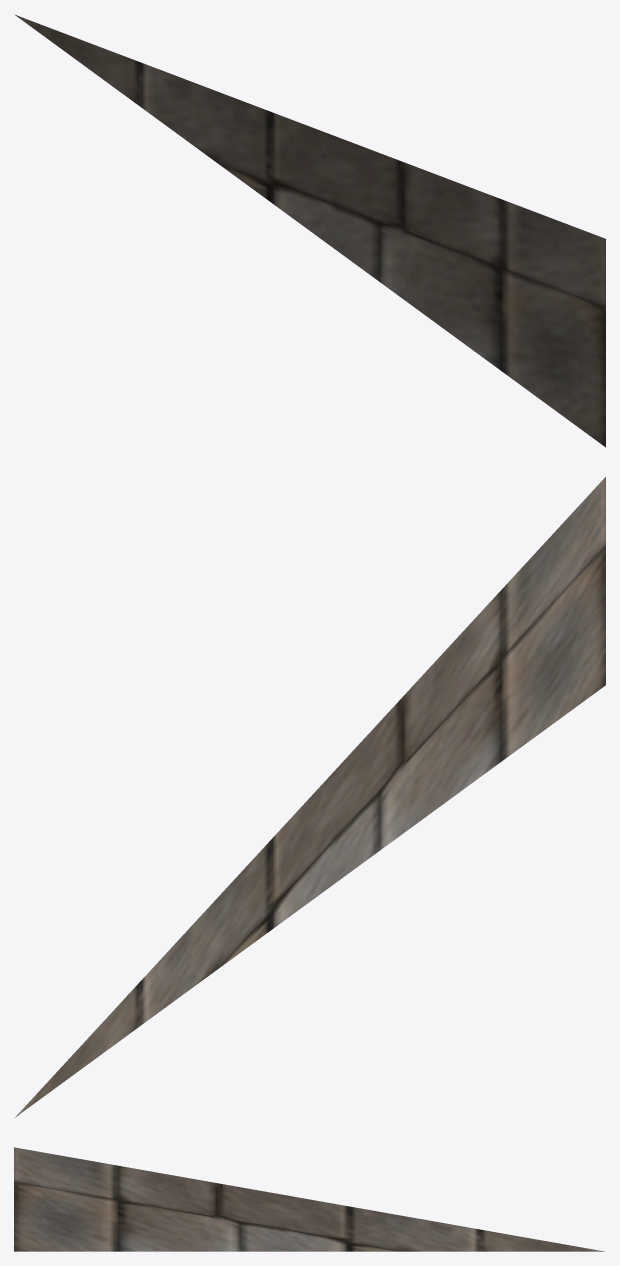
File: Straße_SeitenteilFlach [Eisen]_24.glb
3 renders of one model, top to bottom at view 1: azimuth 30°, elevation 25°; view 2: azimuth 150°, elevation 25°; view 3: azimuth 270°, elevation 25°, orthographic. The views are drawn at different scales.
Parts seen in each view (by area): view 1: pPlaneShape173; view 2: pPlaneShape173; view 3: pPlaneShape173.
Part boxes in pixels (x1,y1,x2,y2): pPlaneShape173: (15, 15, 605, 447); pPlaneShape173: (15, 477, 605, 1117); pPlaneShape173: (14, 1147, 604, 1251).
Bounding box in the file's own units: 1.19e-07 × 0.3891 × 2.
1 material, 1 textured.
